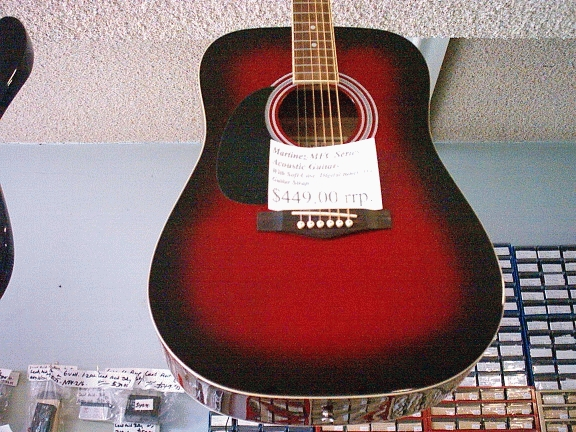guitar: (146, 1, 510, 420)
